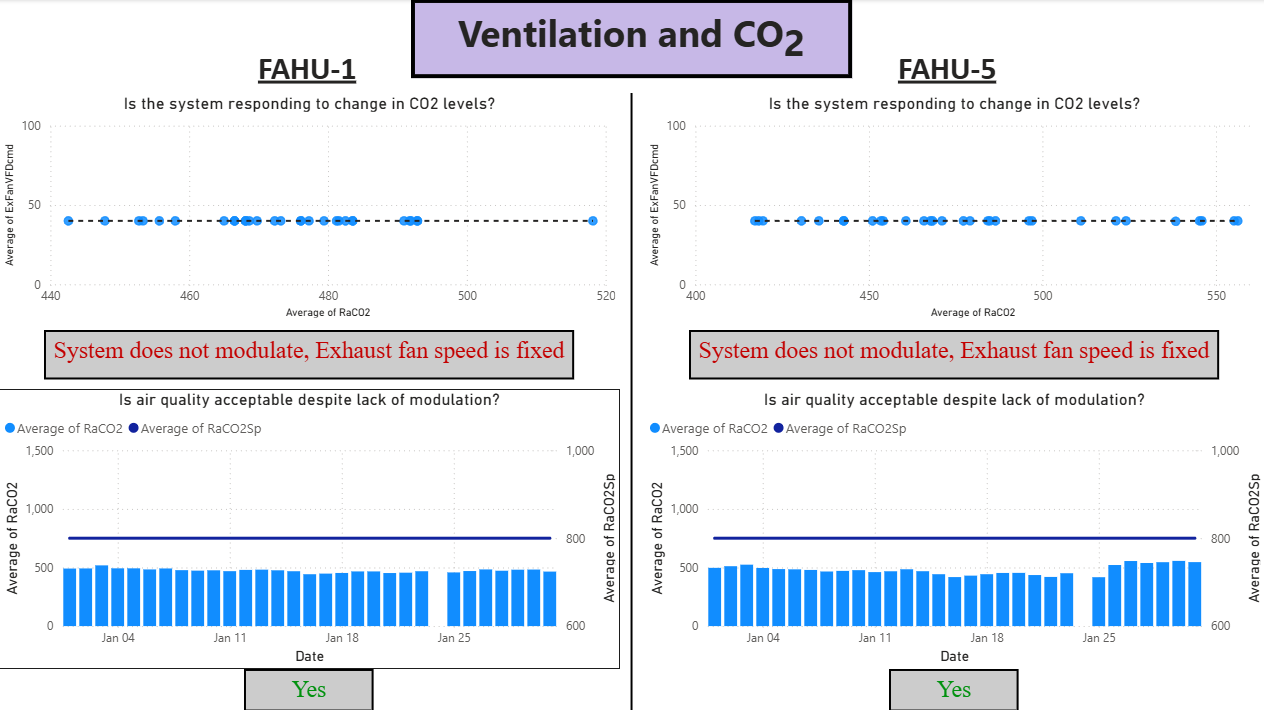

This screenshot's page, from the dashboard's own definition file:
{"tool":"powerbi","page":{"name":"Ventilation & CO2","canvas":[1280,720],"ordinal":3},"visuals":[{"type":"shape","box":[628.3,95.3,23.3,624.4],"z":0},{"type":"textbox","box":[256.8,45.7,114.8,59.3],"z":1000},{"type":"textbox","box":[903.6,45.7,114.8,59.3],"z":2000},{"type":"textbox","box":[416.6,0,445.9,79.9],"z":3000},{"type":"scatterChart","title":"Is the system responding to change in CO2 levels?","fields":{"Y":["Avg(FAHU-1.ExFanVFDcmd)"],"X":["Avg(FAHU-1.RaCO2)"],"Category":["TimeSpine.Date & TimeValue Hierarchy.Date","TimeSpine.Date & TimeValue Hierarchy.TimeValue"]},"box":[0,95.3,628.3,232.5],"z":4000},{"type":"lineStackedColumnComboChart","title":"Is air quality acceptable despite lack of modulation?","fields":{"Category":["TimeSpine.Date & TimeValue Hierarchy.Date","TimeSpine.Date & TimeValue Hierarchy.TimeValue"],"Y":["Avg(FAHU-1.RaCO2)"],"Y2":["Avg(FAHU-1.RaCO2Sp)"]},"box":[0,393.9,628.3,283],"z":5000},{"type":"scatterChart","title":"Is the system responding to change in CO2 levels?","fields":{"Y":["Avg(FAHU-5.ExFanVFDcmd)"],"X":["Avg(FAHU-5.RaCO2)"],"Category":["TimeSpine.Date & TimeValue Hierarchy.Date","TimeSpine.Date & TimeValue Hierarchy.TimeValue"]},"box":[651.7,95.3,628.3,232.5],"z":6000},{"type":"lineStackedColumnComboChart","title":"Is air quality acceptable despite lack of modulation?","fields":{"Category":["TimeSpine.Date & TimeValue Hierarchy.Date","TimeSpine.Date & TimeValue Hierarchy.TimeValue"],"Y":["Avg(FAHU-5.RaCO2)"],"Y2":["Avg(FAHU-5.RaCO2Sp)"]},"box":[651.7,393.9,628.3,283],"z":7000},{"type":"textbox","box":[45.7,334.6,535.9,49.6],"z":8000},{"type":"textbox","box":[697.4,334.6,535.9,49.6],"z":9000},{"type":"textbox","box":[248,677,131.3,42.8],"z":10000},{"type":"textbox","box":[899.7,677,131.3,42.8],"z":11000}]}

Visuals, with their boxes in screenshot pixels (x1, y1, x2, y2), scaled from the page's 1280x720 canvas onto the 1264x710 screenshot:
shape: left=620, top=94, right=643, bottom=709
textbox: left=254, top=45, right=367, bottom=104
textbox: left=892, top=45, right=1006, bottom=104
textbox: left=411, top=0, right=852, bottom=79
"Is the system responding to change in CO2 levels?" scatterChart: left=0, top=94, right=620, bottom=323
"Is air quality acceptable despite lack of modulation?" lineStackedColumnComboChart: left=0, top=388, right=620, bottom=667
"Is the system responding to change in CO2 levels?" scatterChart: left=644, top=94, right=1263, bottom=323
"Is air quality acceptable despite lack of modulation?" lineStackedColumnComboChart: left=644, top=388, right=1263, bottom=667
textbox: left=45, top=330, right=574, bottom=379
textbox: left=689, top=330, right=1218, bottom=379
textbox: left=245, top=668, right=375, bottom=709
textbox: left=888, top=668, right=1018, bottom=709
